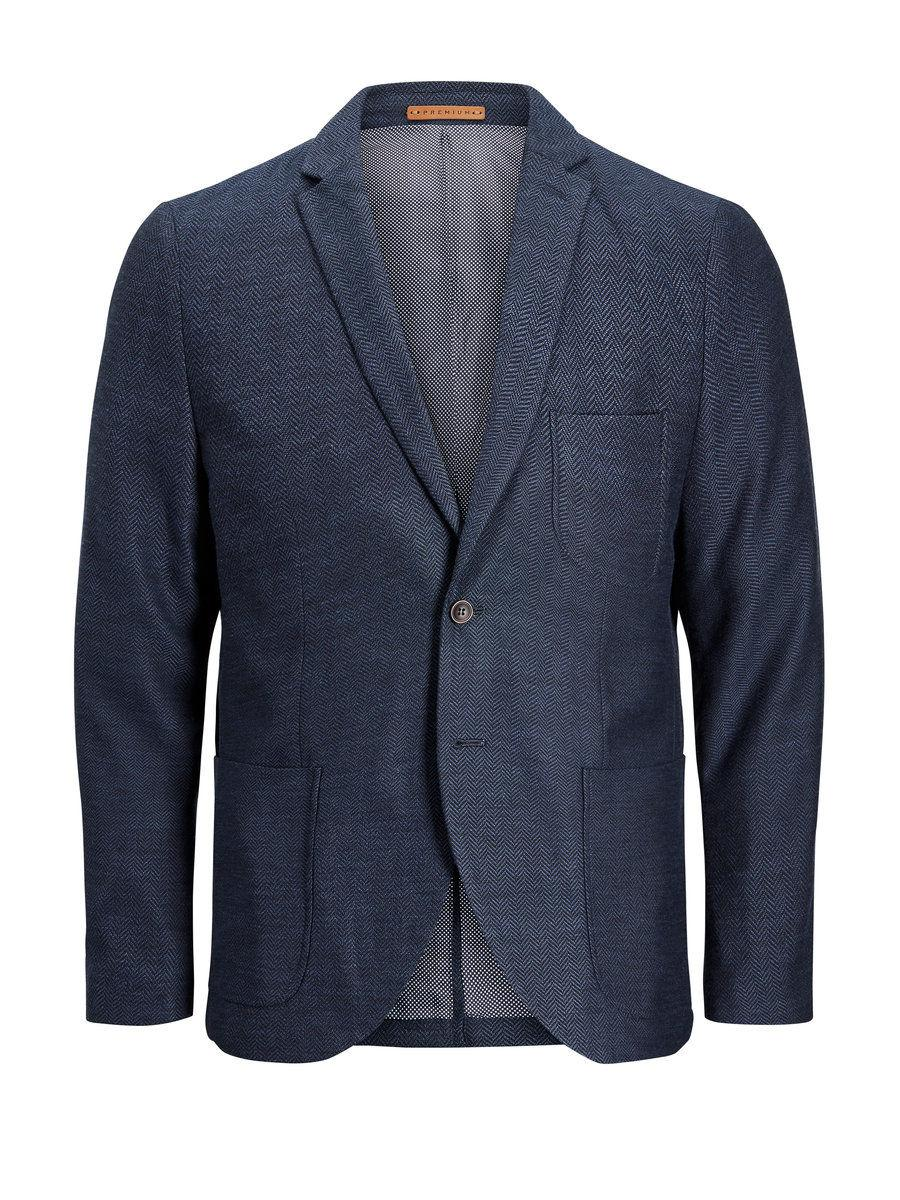teeshirt: (69, 74, 838, 1107)
